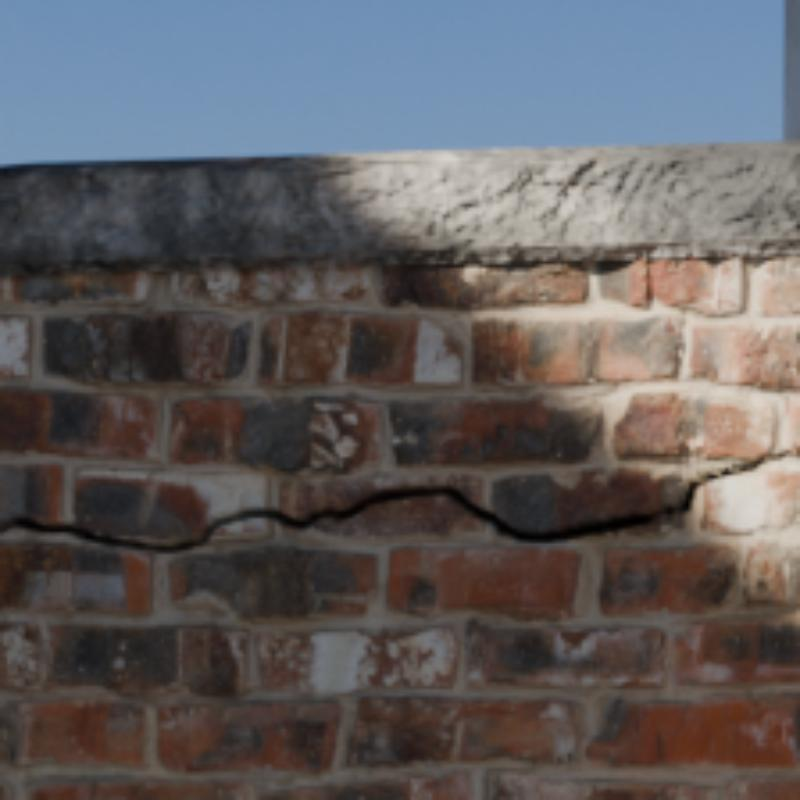crack: (0, 448, 796, 551)
